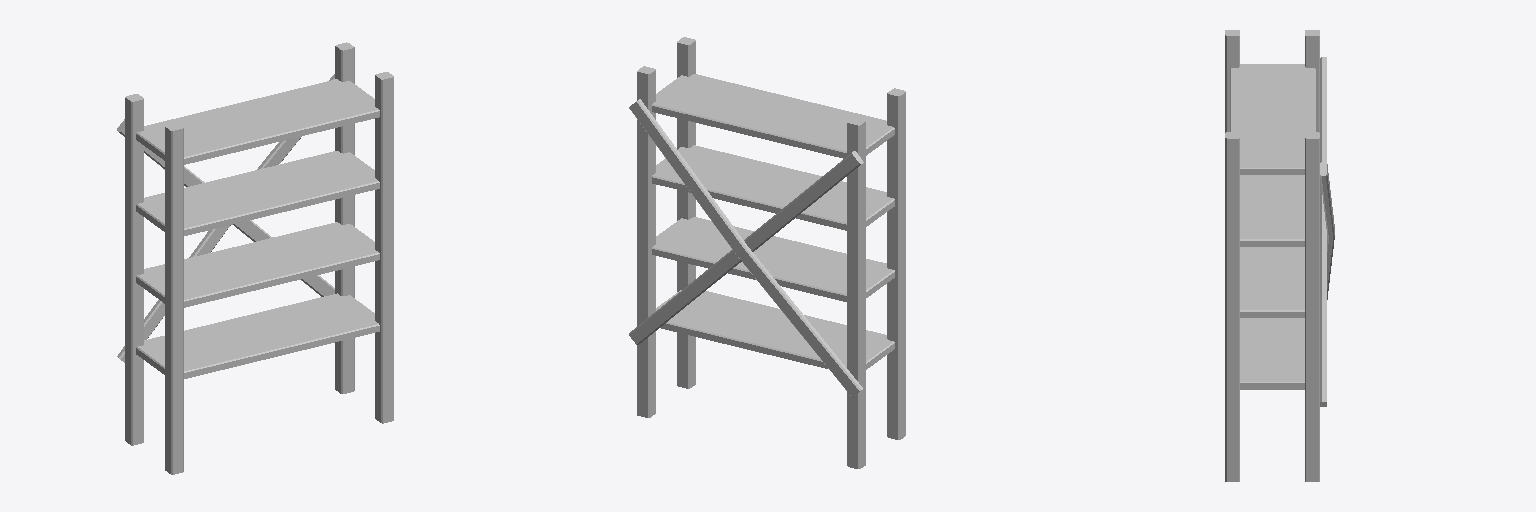
File: shelf.obj
3 views of the same model, side by side, from view 1: azimuth 30°, elevation 25°; view 2: azimuth 150°, elevation 25°; view 3: azimuth 270°, elevation 25° (orthographic).
Parts seen in each view (by area): view 1: shelf_no_back; view 2: shelf_no_back; view 3: shelf_no_back.
Boxes of the visible parts, box(x1,y1,x2,y2) form: shelf_no_back: box(117, 42, 393, 474); shelf_no_back: box(629, 37, 905, 468); shelf_no_back: box(1225, 30, 1334, 481).
Bounding box in the file's own units: 2.12 × 3 × 0.8668.